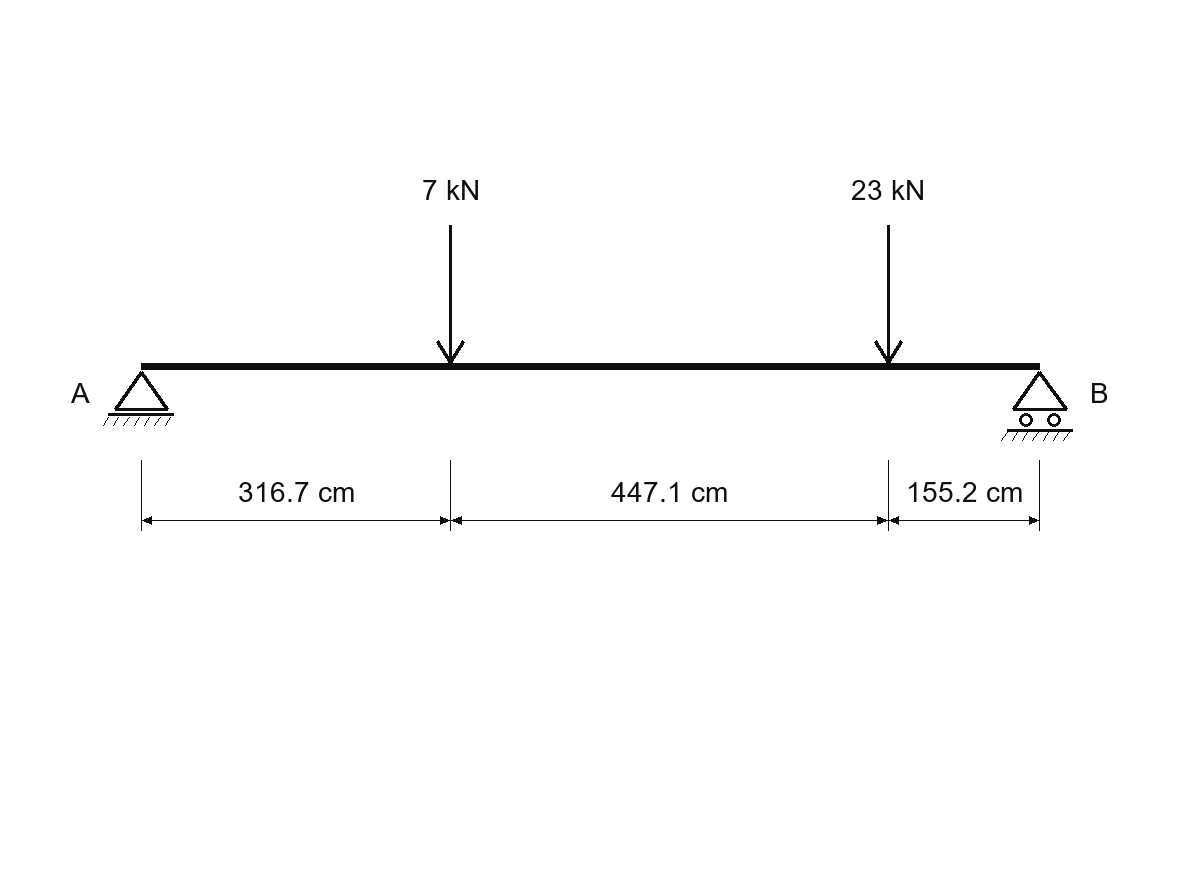pin_support: (103, 371, 174, 426)
point_load: (436, 225, 465, 364), (874, 225, 903, 364)
roller_support: (1001, 371, 1073, 441)
